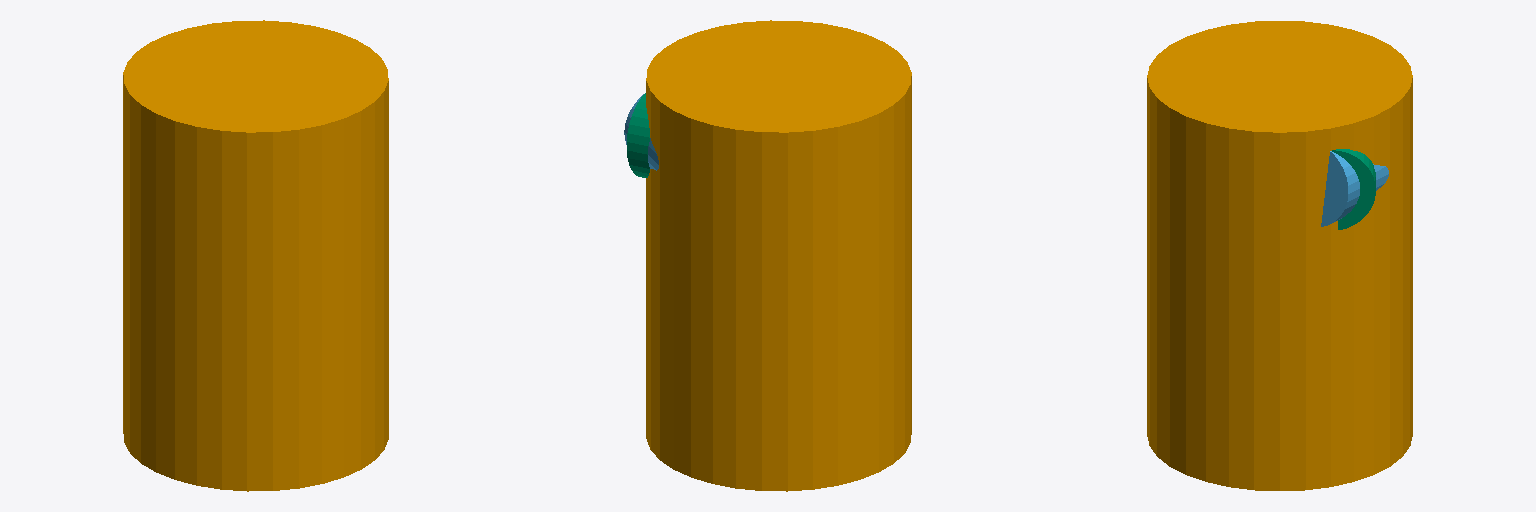
The robot description file, URDF, robot "pepe":
<?xml version="1.0"?><robot name="pepe">
	<link name="0">
		<visual>
			<geometry>
				<cylinder length="2.9780468539074367" radius="0.9999"/>
			</geometry>
		</visual>
		<collision>
			<geometry>
				<cylinder length="2.9780468539074367" radius="0.9999"/>
			</geometry>
		</collision>
		<inertial>
			<mass value="9.353939049816244"/>
			<inertia ixx="0.03" iyy="0.03" izz="0.03" ixy="0" ixz="0" iyx="0"/>
		</inertial>
	</link>
	<link name="11">
		<visual>
			<geometry>
				<cylinder length="0.5702286811228139" radius="0.3435822541894309"/>
			</geometry>
		</visual>
		<collision>
			<geometry>
				<cylinder length="0.5702286811228139" radius="0.3435822541894309"/>
			</geometry>
		</collision>
		<inertial>
			<mass value="0.21147565539283159"/>
			<inertia ixx="0.03" iyy="0.03" izz="0.03" ixy="0" ixz="0" iyx="0"/>
		</inertial>
	</link>
	<link name="12">
		<visual>
			<geometry>
				<cylinder length="0.5702286811228139" radius="0.3435822541894309"/>
			</geometry>
		</visual>
		<collision>
			<geometry>
				<cylinder length="0.5702286811228139" radius="0.3435822541894309"/>
			</geometry>
		</collision>
		<inertial>
			<mass value="0.21147565539283159"/>
			<inertia ixx="0.03" iyy="0.03" izz="0.03" ixy="0" ixz="0" iyx="0"/>
		</inertial>
	</link>
	<joint name="11_to_0" type="revolute">
		<parent link="0"/>
		<child link="11"/>
		<axis xyz="1 0 0"/>
		<limit effort="1" upper="-3.1415" lower="3.1415" velocity="1"/>
		<origin rpy="11.399299152947133 1.794067843027246 1.3928099551993185" xyz="0.6212625768849402 0.3805403696735459 0.9772863457954744"/>
	</joint>
	<joint name="12_to_0" type="revolute">
		<parent link="0"/>
		<child link="12"/>
		<axis xyz="1 0 0"/>
		<limit effort="1" upper="-3.1415" lower="3.1415" velocity="1"/>
		<origin rpy="17.098948729420698 1.794067843027246 1.3928099551993185" xyz="0.6212625768849402 0.3805403696735459 0.9772863457954744"/>
	</joint>
</robot>

--- What the picture shows (computed from the rendered views, not written in the file) ---
3 views of the same robot in one strip: view 1: azimuth 30°, elevation 25°; view 2: azimuth 150°, elevation 25°; view 3: azimuth 270°, elevation 25° (orthographic).
Model pepe with 3 links and 2 joints (2 revolute), rooted at 0, posed all joints at 0.
Links seen in each view (by area): view 1: 0; view 2: 0, 12; view 3: 0, 11, 12.
Link boxes in pixels (x1,y1,x2,y2): 0: (123,20,388,491); 0: (646,20,911,491); 12: (627,93,649,177); 0: (1147,21,1412,490); 11: (1321,151,1388,226); 12: (1332,149,1375,229).
Bounding box of the posed robot: 2.05 × 2 × 2.98 m (x, y, z).
Geometry: primitives only (box / cylinder / sphere), no mesh files.
